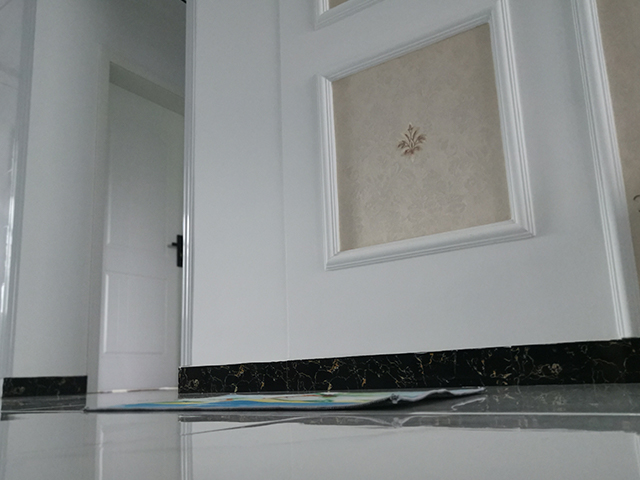carpet: (79, 383, 484, 415)
